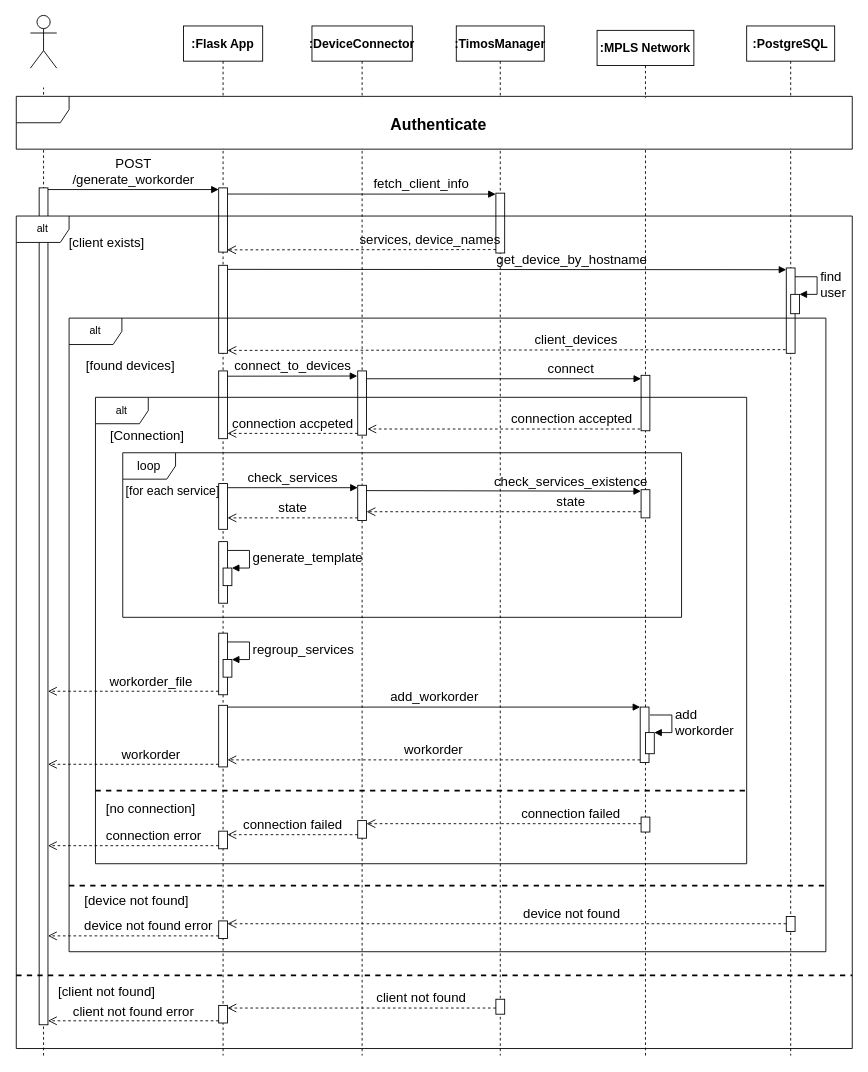
This 868x1072 diagram has some shape labels left out. The shapes that lost their labels are listed below. From the top down, each one's box as (x1, y1, x2, y2) in pixels, then its label:
(29, 15, 57, 68): Actor
(15, 95, 852, 149): ref
